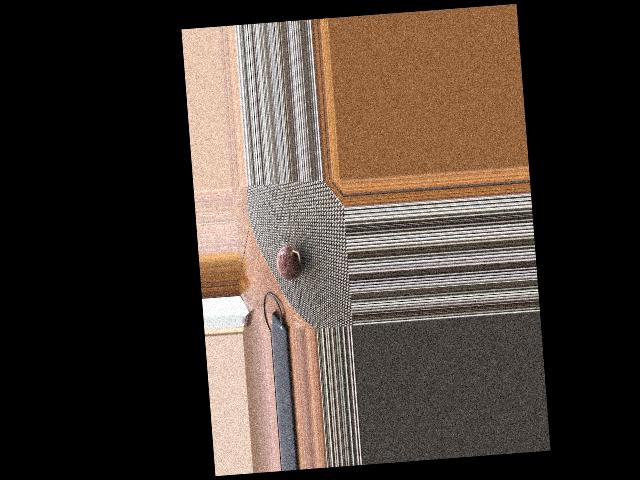beet: (275, 245, 304, 281)
